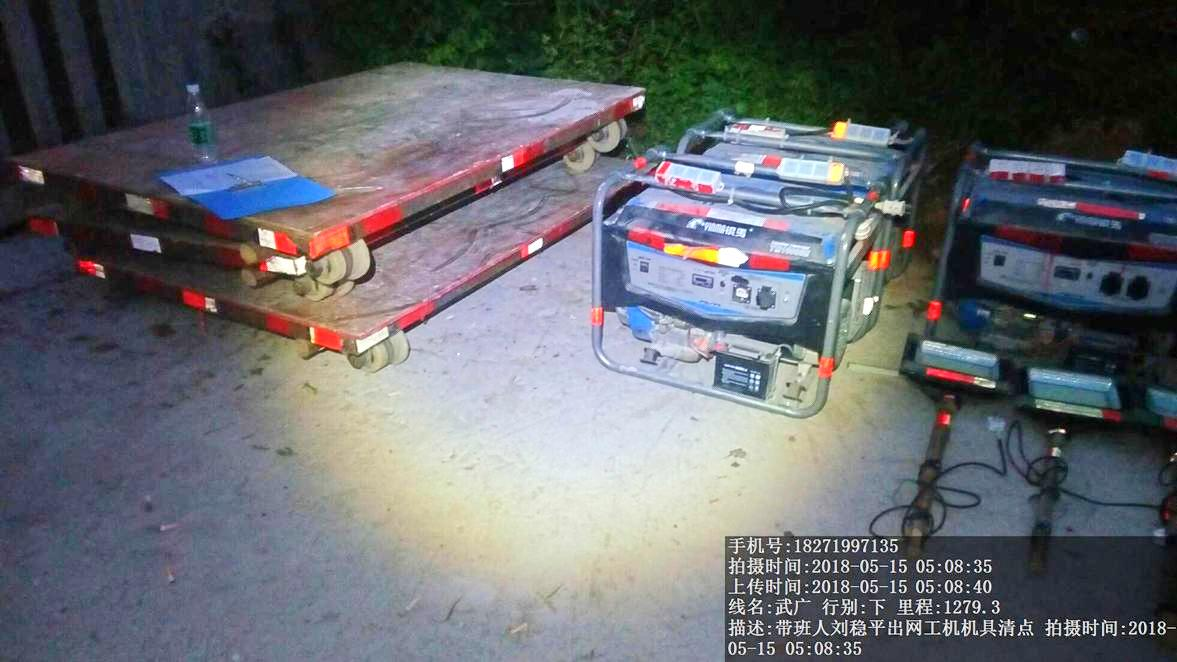DJ: (586, 156, 891, 428), (931, 134, 1175, 331)
